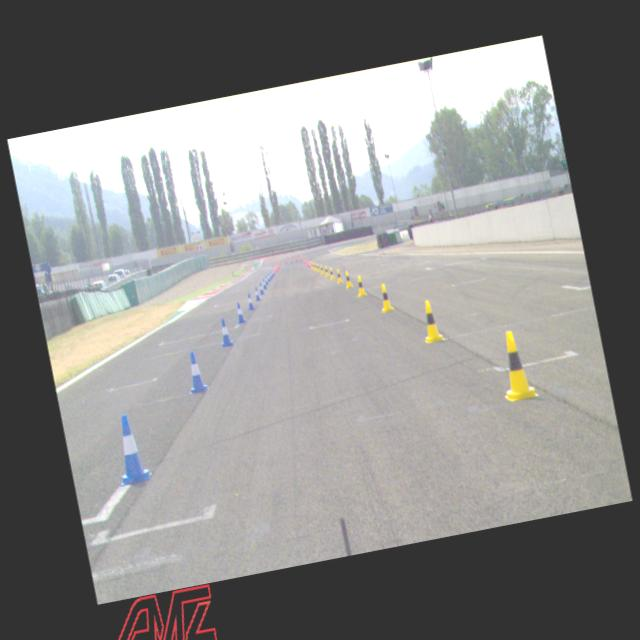blue_cone: (106, 411, 154, 486), (182, 349, 210, 394), (216, 316, 234, 348), (234, 301, 247, 324), (245, 292, 256, 311), (253, 286, 262, 301), (258, 282, 265, 296), (262, 278, 268, 290), (266, 274, 272, 284), (264, 275, 269, 286), (268, 272, 272, 280)
yellow_cone: (492, 328, 540, 404), (417, 298, 445, 344), (377, 282, 395, 314), (354, 274, 368, 298), (343, 270, 354, 290), (335, 268, 344, 284), (328, 266, 336, 280), (322, 265, 330, 278), (320, 264, 326, 275), (316, 263, 321, 273), (314, 262, 318, 272)
